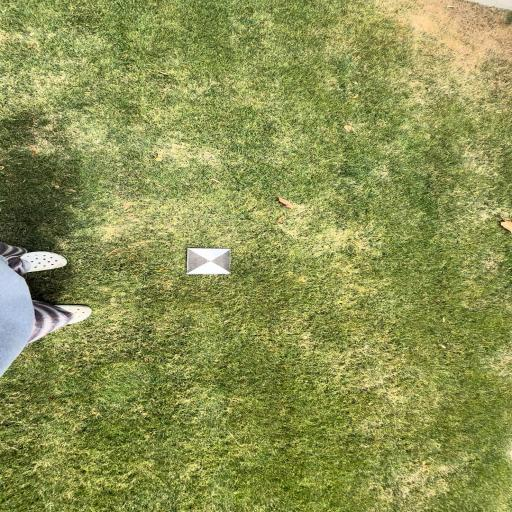target: (187, 248, 231, 274)
